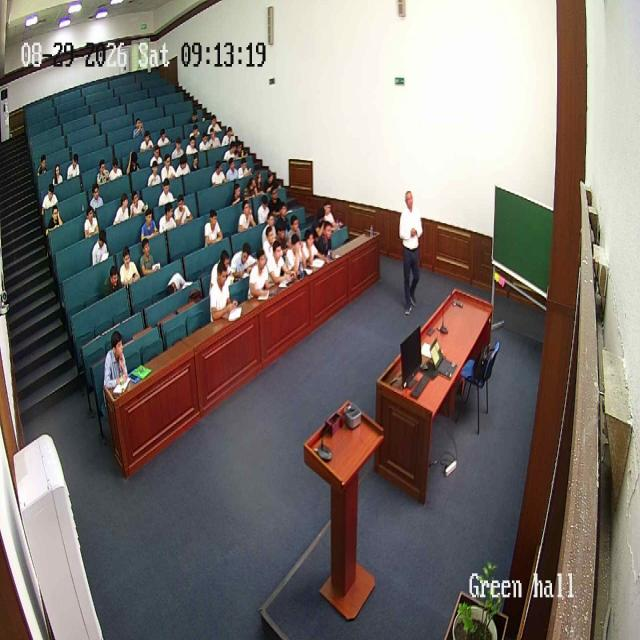person: (398, 190, 424, 315), (103, 332, 131, 398), (210, 261, 238, 321), (247, 248, 271, 299), (265, 236, 289, 286), (284, 232, 306, 276), (118, 245, 140, 288), (230, 244, 256, 280), (299, 225, 320, 268), (139, 236, 161, 276), (204, 208, 224, 245), (102, 265, 123, 298), (315, 220, 333, 258), (92, 228, 110, 266), (173, 194, 193, 228), (140, 205, 158, 242), (158, 200, 176, 235), (238, 198, 255, 234), (46, 205, 64, 238), (41, 184, 60, 214), (84, 206, 100, 239), (114, 194, 130, 225), (130, 188, 146, 218), (89, 182, 105, 212), (321, 200, 338, 228), (158, 178, 174, 207), (268, 186, 283, 216), (259, 224, 276, 250), (278, 199, 293, 228), (214, 249, 232, 272), (160, 153, 174, 182), (236, 154, 250, 182), (264, 164, 279, 190), (162, 275, 188, 290), (211, 162, 227, 186), (96, 159, 110, 186), (256, 199, 270, 226), (66, 153, 80, 179), (147, 161, 161, 187), (174, 155, 189, 179), (229, 184, 244, 208), (288, 214, 303, 238), (108, 157, 123, 180), (139, 128, 154, 150), (208, 112, 223, 134), (209, 124, 221, 150), (225, 157, 237, 183), (185, 132, 199, 154), (236, 133, 247, 161), (37, 153, 49, 177), (52, 164, 64, 188), (127, 149, 139, 173), (244, 177, 256, 201), (262, 214, 274, 238), (148, 146, 162, 166), (188, 105, 200, 128), (188, 124, 202, 142), (222, 125, 234, 146), (172, 135, 183, 157), (159, 124, 171, 144), (198, 132, 210, 152), (255, 168, 265, 192), (225, 139, 235, 161), (190, 149, 200, 169), (132, 119, 144, 135)
